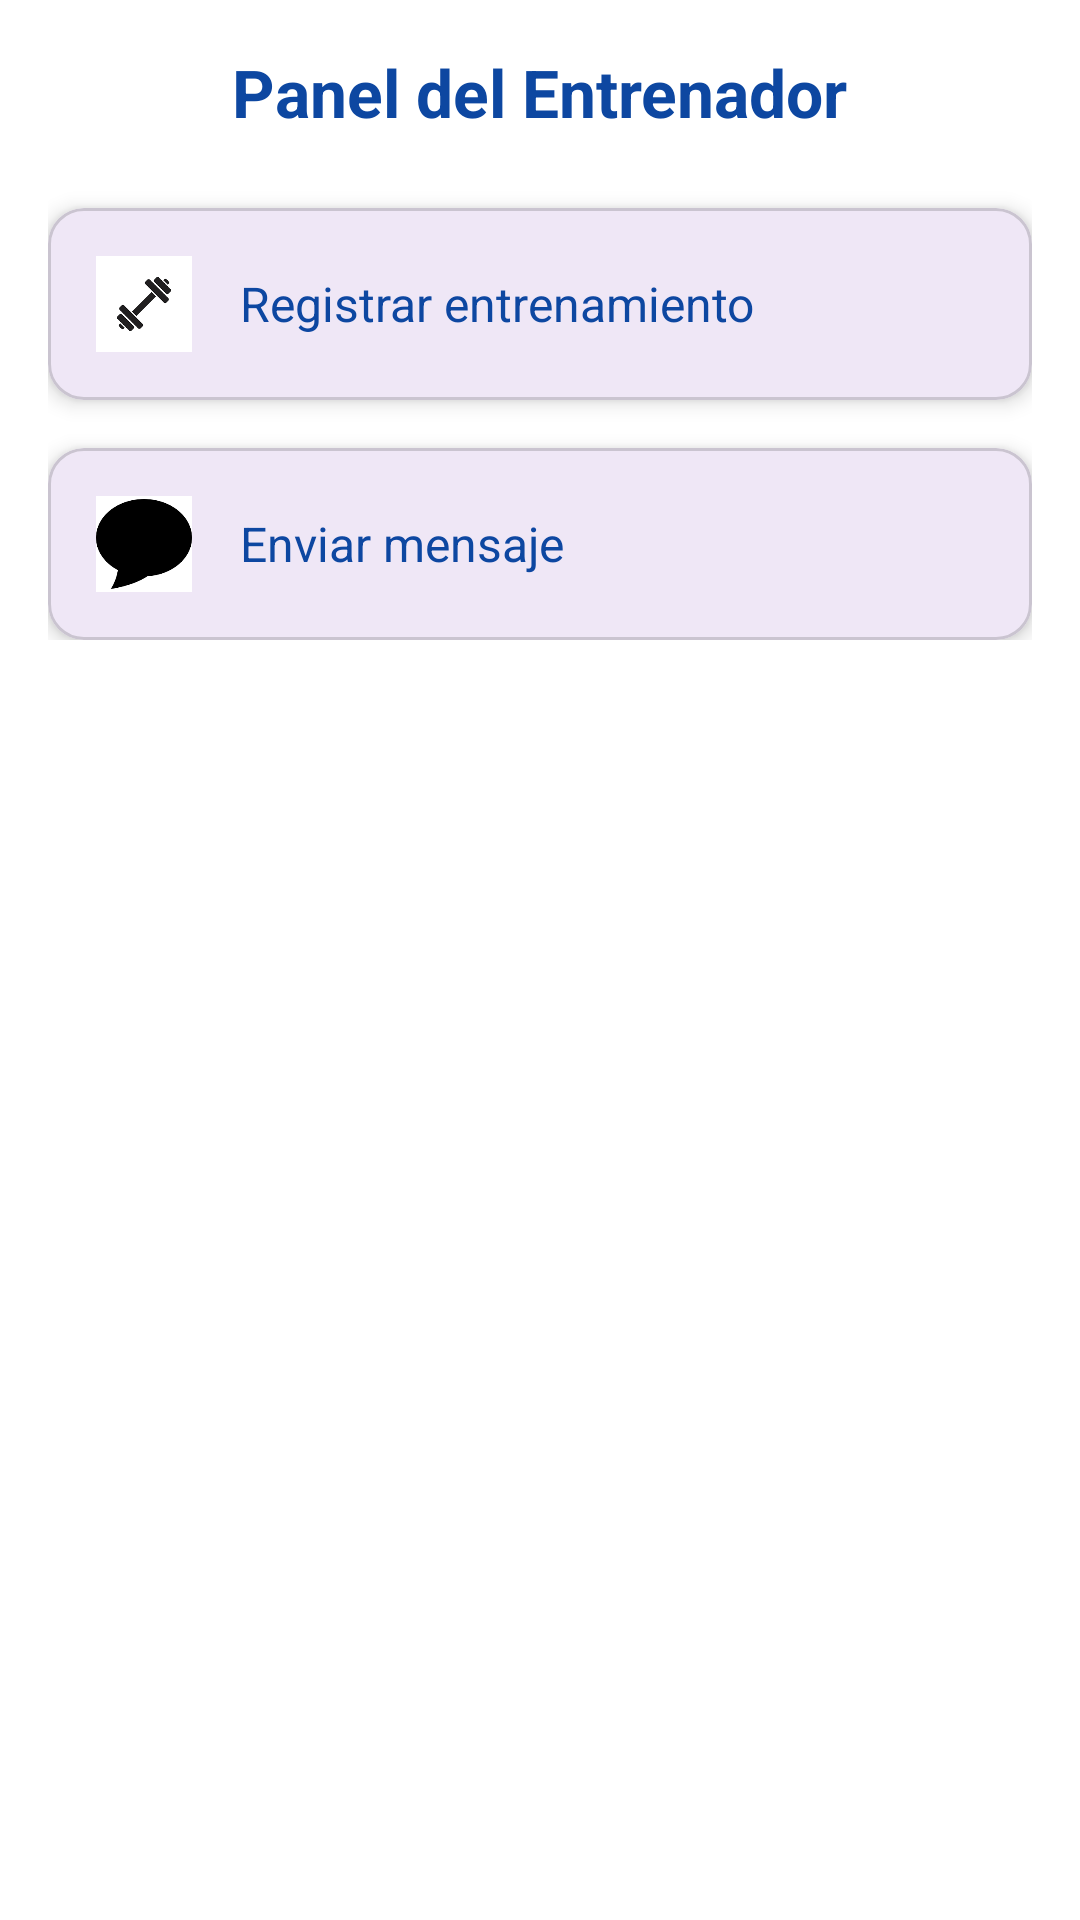

Where icons sit on this 1080*1920 app screen, as (x1, y1, x2, y2):
fitness: (96, 256, 192, 352)
message: (96, 499, 192, 589)
